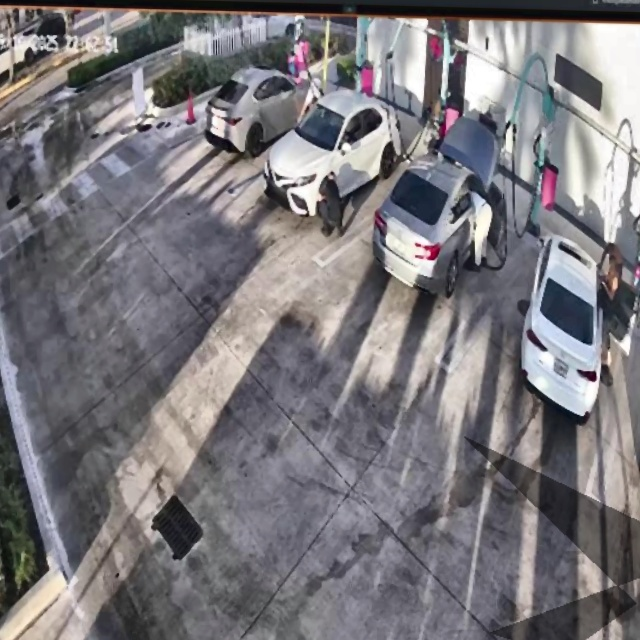Car: (371, 116, 500, 289), (264, 88, 402, 220), (203, 64, 324, 152)
